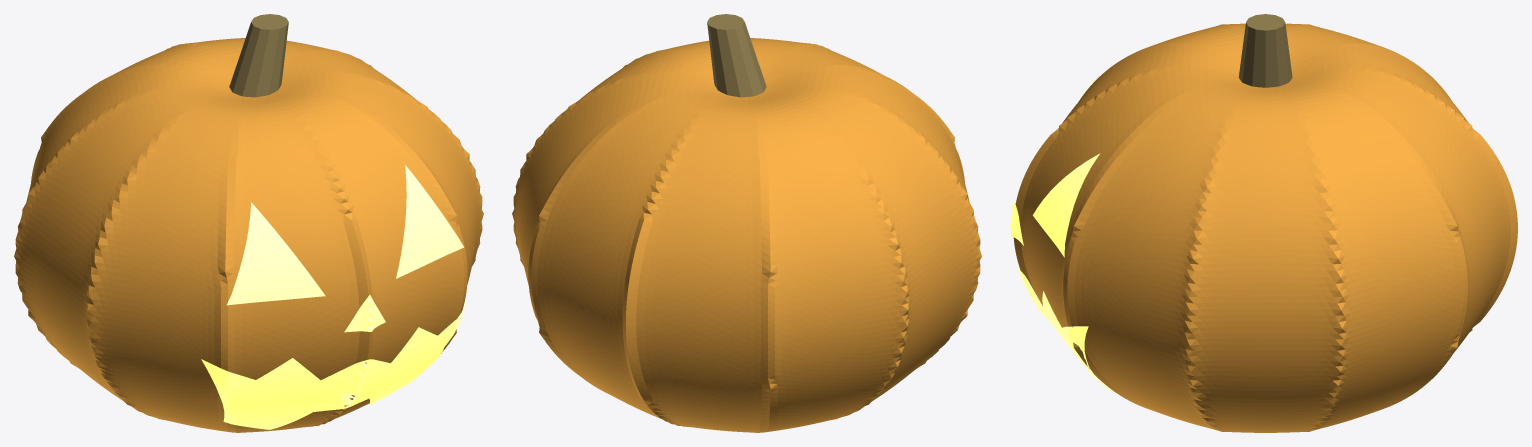
The model's file is pumpkin.glb.
The picture shows the model from 3 angles, left to right: view 1: azimuth 30°, elevation 25°; view 2: azimuth 150°, elevation 25°; view 3: azimuth 270°, elevation 25°; orthographic projection. The views are drawn at different scales.
Visible parts, largest first — view 1: pumpkin_body, face_3, face_0, stem, face_1, face_2; view 2: pumpkin_body, stem; view 3: pumpkin_body, stem, face_1, face_3.
Boxes of the visible parts, <box> form: pumpkin_body: <box>14,38,483,432</box>; face_3: <box>201,297,466,429</box>; face_0: <box>227,202,325,305</box>; stem: <box>229,14,288,97</box>; face_1: <box>396,165,463,278</box>; face_2: <box>344,295,385,332</box>; pumpkin_body: <box>512,38,981,432</box>; stem: <box>707,14,766,97</box>; pumpkin_body: <box>1013,23,1517,432</box>; stem: <box>1238,14,1292,87</box>; face_1: <box>1033,153,1100,257</box>; face_3: <box>1016,267,1114,392</box>.
Bounding box in the file's own units: 0.2832 × 0.2478 × 0.302.
